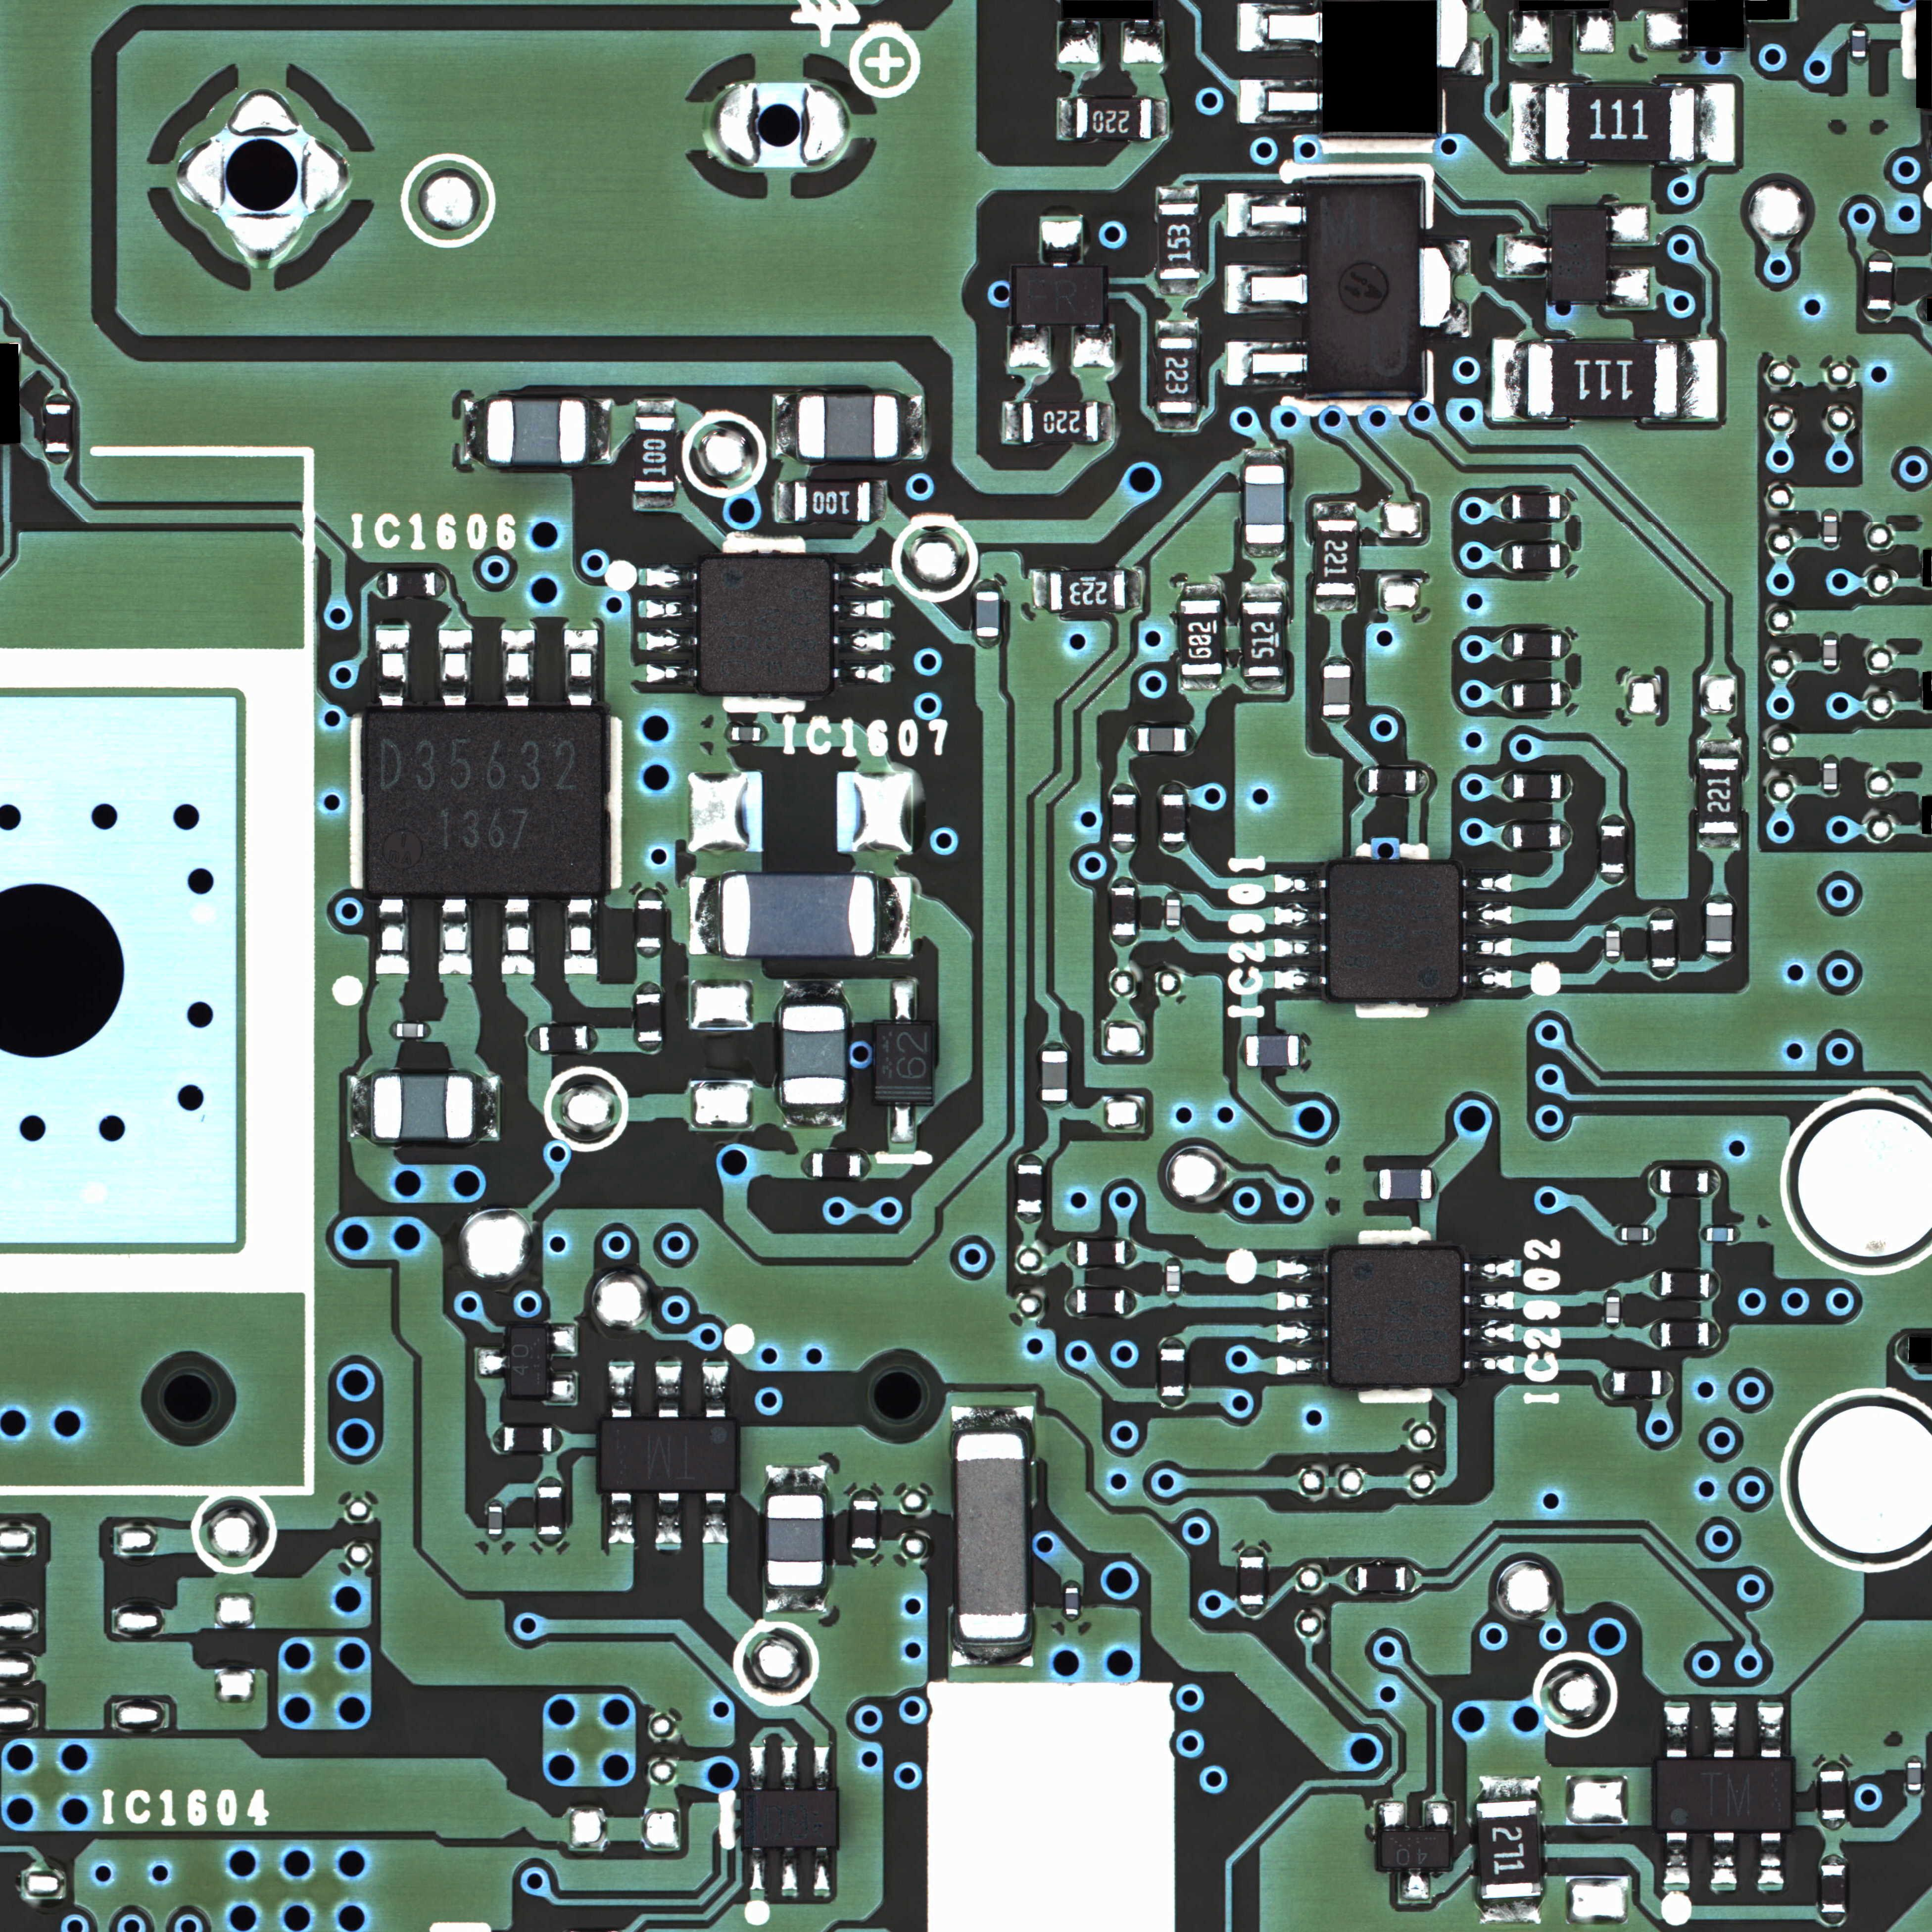Package: (368, 711, 602, 893), (1306, 184, 1419, 391), (1329, 865, 1458, 998), (701, 559, 830, 690), (1332, 1251, 1460, 1384), (955, 1433, 1028, 1638), (724, 874, 874, 955), (1529, 343, 1677, 418), (1546, 87, 1693, 161), (602, 1421, 734, 1490), (1658, 1760, 1790, 1829), (487, 400, 586, 464), (782, 1007, 846, 1104), (1477, 1801, 1541, 1898), (373, 1076, 472, 1138), (798, 396, 897, 458), (743, 1790, 835, 1847), (1016, 267, 1104, 324), (768, 1495, 823, 1585), (1553, 209, 1605, 301), (876, 1024, 932, 1102), (1077, 97, 1152, 140), (1180, 600, 1223, 674), (794, 481, 870, 522), (1246, 465, 1284, 543), (1023, 402, 1097, 442), (1159, 203, 1200, 278), (1157, 338, 1198, 412), (1316, 520, 1357, 594), (1242, 602, 1283, 676), (635, 418, 674, 492), (1051, 571, 1125, 610), (1698, 757, 1737, 832), (510, 1327, 547, 1396), (1382, 1831, 1449, 1868), (1246, 1035, 1299, 1067), (1380, 1169, 1431, 1200), (1706, 902, 1732, 954), (1323, 665, 1350, 715), (1819, 1771, 1845, 1819), (1513, 773, 1560, 800), (1513, 632, 1560, 658), (46, 403, 71, 453), (1076, 1240, 1125, 1265), (1042, 1051, 1067, 1100), (1660, 1169, 1709, 1194), (540, 1026, 587, 1051), (504, 1428, 552, 1453), (538, 1486, 563, 1534), (637, 901, 662, 948), (637, 993, 662, 1040), (853, 1500, 878, 1548), (1077, 1290, 1125, 1315), (1017, 1164, 1042, 1212), (1111, 888, 1136, 936), (1138, 727, 1185, 752), (1161, 794, 1185, 842), (1161, 1348, 1185, 1396), (1359, 1566, 1407, 1591), (1821, 1865, 1845, 1913), (1661, 1272, 1709, 1297), (1513, 683, 1560, 708), (1868, 262, 1893, 310), (386, 573, 435, 596), (812, 1154, 862, 1177), (1651, 920, 1675, 966), (1601, 824, 1624, 874), (1113, 794, 1136, 842), (1368, 770, 1415, 793), (1240, 1557, 1263, 1605), (1614, 1371, 1661, 1394), (1661, 1323, 1709, 1346), (1513, 824, 1560, 847), (1513, 495, 1560, 518), (1513, 545, 1560, 568), (977, 591, 998, 637), (731, 727, 761, 741), (488, 1507, 502, 1536), (1907, 1762, 1921, 1790), (1824, 515, 1838, 543), (1065, 1589, 1079, 1615), (1166, 1265, 1180, 1292), (1707, 1228, 1734, 1242), (1606, 931, 1621, 957), (1166, 901, 1180, 925), (396, 1024, 423, 1037), (1606, 1297, 1619, 1323), (1621, 1228, 1647, 1240), (1824, 763, 1836, 789), (1824, 639, 1836, 665), (1852, 30, 1865, 57)
Solder: (1421, 239, 1468, 338), (1238, 4, 1318, 53), (1224, 265, 1306, 313), (1240, 76, 1318, 122), (1226, 341, 1306, 386), (1228, 193, 1306, 237), (1695, 83, 1736, 165), (1677, 340, 1718, 419), (1493, 338, 1529, 423), (563, 628, 598, 711), (876, 876, 911, 955), (375, 628, 409, 711), (439, 628, 472, 711), (501, 628, 534, 711), (501, 893, 534, 975), (564, 893, 598, 975), (1511, 83, 1545, 165), (375, 895, 409, 975), (439, 895, 472, 975), (688, 876, 722, 954), (950, 1638, 1035, 1668), (950, 1405, 1035, 1431), (1504, 235, 1552, 276), (1042, 221, 1083, 267), (766, 1465, 826, 1495), (1072, 326, 1115, 368), (1479, 1775, 1543, 1803), (1479, 1895, 1543, 1923), (1122, 21, 1164, 64), (1606, 203, 1649, 244), (1606, 267, 1649, 308), (1442, 35, 1486, 74), (1511, 12, 1550, 57), (1010, 326, 1049, 368), (474, 1074, 499, 1139), (1060, 21, 1099, 62), (587, 400, 612, 464), (609, 1490, 637, 1545), (655, 1490, 683, 1545), (1645, 12, 1684, 51), (701, 1366, 729, 1419), (702, 1491, 731, 1545), (899, 396, 924, 456), (784, 980, 844, 1005), (766, 1587, 826, 1612), (1663, 1706, 1690, 1760), (1576, 12, 1614, 51), (775, 395, 798, 456), (655, 1366, 681, 1419), (609, 1366, 635, 1419), (1711, 1706, 1737, 1759), (1757, 1831, 1783, 1884), (1663, 1831, 1690, 1884), (465, 400, 487, 465), (1759, 1706, 1783, 1760), (350, 1076, 372, 1139), (646, 564, 699, 589), (782, 1106, 844, 1127), (1711, 1831, 1736, 1884), (830, 566, 885, 589), (832, 628, 885, 651), (646, 628, 699, 651), (890, 978, 916, 1024), (830, 663, 885, 685), (1274, 906, 1329, 927), (888, 1104, 916, 1143), (1398, 1868, 1430, 1902), (830, 600, 885, 619), (1276, 1325, 1330, 1345), (1276, 1260, 1330, 1279), (1458, 906, 1513, 925), (1458, 874, 1513, 893), (1274, 874, 1329, 893), (1274, 938, 1329, 957), (1274, 970, 1329, 989), (646, 663, 699, 683), (646, 600, 699, 619), (1461, 1355, 1514, 1375), (1461, 1323, 1514, 1343), (1460, 970, 1513, 989), (1460, 938, 1513, 957), (1276, 1357, 1330, 1375), (547, 1323, 577, 1355), (547, 1371, 577, 1403), (478, 1348, 510, 1378), (1461, 1260, 1514, 1277), (1461, 1292, 1514, 1309), (1277, 1293, 1330, 1311), (1424, 1801, 1454, 1831), (1376, 1801, 1407, 1831), (1155, 184, 1200, 203), (1242, 582, 1286, 602), (748, 1746, 766, 1790), (780, 1746, 798, 1790), (1697, 740, 1741, 757), (1697, 833, 1741, 851), (1157, 320, 1198, 338), (777, 481, 794, 522), (1315, 502, 1355, 520), (814, 1746, 830, 1790), (750, 1847, 766, 1891), (782, 1847, 798, 1891), (1159, 278, 1198, 295), (1005, 403, 1023, 442), (635, 398, 674, 416), (1033, 570, 1051, 609), (1180, 584, 1223, 600), (635, 492, 676, 508), (870, 481, 886, 522), (1125, 570, 1141, 610), (1315, 596, 1355, 612), (1244, 543, 1284, 559), (1152, 99, 1168, 138), (1060, 99, 1076, 138), (1244, 676, 1283, 692), (1246, 449, 1284, 465), (1180, 676, 1223, 690), (814, 1847, 828, 1890), (1099, 402, 1113, 442), (1159, 414, 1198, 428), (1125, 1238, 1138, 1265), (1500, 773, 1513, 800), (1897, 1336, 1909, 1362), (1661, 1369, 1674, 1396), (1821, 1913, 1847, 1925), (1819, 1819, 1845, 1831), (975, 579, 1000, 591), (975, 637, 1000, 649), (637, 1040, 662, 1053), (1161, 1336, 1185, 1348), (1161, 1396, 1185, 1408), (1500, 823, 1513, 847), (1651, 908, 1675, 920), (1709, 1169, 1721, 1194), (1065, 1238, 1076, 1267), (1706, 892, 1734, 902), (1709, 1272, 1720, 1300), (1649, 1269, 1660, 1297), (1649, 1320, 1660, 1348), (1019, 1212, 1042, 1224), (1240, 1605, 1263, 1617), (589, 1026, 600, 1053), (492, 1426, 502, 1453), (1159, 782, 1185, 793), (1109, 876, 1136, 886), (1125, 1290, 1136, 1316), (1067, 1288, 1077, 1315), (1346, 1564, 1357, 1591), (1560, 681, 1571, 708), (1500, 632, 1511, 658), (1560, 543, 1571, 570), (1560, 494, 1571, 520), (1651, 968, 1677, 978), (1709, 1322, 1720, 1348), (1603, 1369, 1614, 1396), (44, 453, 71, 464), (435, 573, 446, 598), (552, 1428, 563, 1453), (538, 1536, 563, 1546), (1187, 729, 1198, 754), (1127, 727, 1138, 752), (637, 888, 662, 899), (635, 982, 660, 993), (801, 1152, 812, 1177), (853, 1490, 878, 1500), (853, 1548, 878, 1559), (1407, 1566, 1417, 1591), (1417, 768, 1428, 793), (1502, 683, 1513, 708), (1500, 543, 1511, 568), (1500, 494, 1511, 518), (1601, 814, 1626, 824), (1601, 874, 1626, 885), (1649, 1169, 1660, 1194), (1821, 1854, 1845, 1865), (1562, 632, 1571, 660), (1113, 782, 1136, 793), (1162, 842, 1185, 853), (1113, 842, 1136, 853), (1113, 936, 1136, 947), (639, 948, 662, 959), (1017, 1154, 1040, 1164), (1433, 1168, 1440, 1201), (1562, 773, 1571, 800), (1323, 715, 1350, 724), (1323, 656, 1350, 665), (1867, 251, 1893, 260), (1819, 1762, 1845, 1771), (1918, 299, 1927, 326), (1299, 1035, 1306, 1067), (377, 571, 386, 596), (529, 1026, 538, 1051), (862, 1154, 870, 1178), (1240, 1546, 1265, 1555), (1562, 823, 1571, 847), (1868, 311, 1893, 320), (46, 395, 71, 403), (538, 1477, 561, 1486), (1359, 766, 1366, 793), (1042, 1102, 1067, 1109), (1707, 954, 1732, 961), (1042, 1042, 1065, 1049), (1373, 1168, 1378, 1198), (1240, 1035, 1246, 1065), (724, 724, 731, 745), (1166, 1256, 1182, 1265), (761, 725, 768, 743), (1063, 1580, 1081, 1587), (1822, 630, 1836, 639), (1824, 754, 1838, 763), (1606, 1288, 1621, 1297), (425, 1023, 432, 1039), (1166, 1292, 1182, 1299), (1851, 58, 1867, 65), (1822, 789, 1838, 796), (1734, 1226, 1741, 1242), (1649, 1226, 1656, 1242), (1614, 1224, 1621, 1240), (389, 1023, 396, 1037), (488, 1536, 502, 1543), (1166, 892, 1180, 899), (1166, 925, 1180, 932), (1065, 1615, 1079, 1622), (1852, 23, 1867, 30), (1822, 508, 1836, 515), (1606, 957, 1621, 964), (1700, 1226, 1707, 1240), (1605, 1323, 1619, 1330), (1907, 1755, 1921, 1762), (1907, 1790, 1921, 1798), (1605, 924, 1621, 929), (488, 1500, 502, 1506), (1824, 543, 1838, 548), (1824, 667, 1838, 672)
